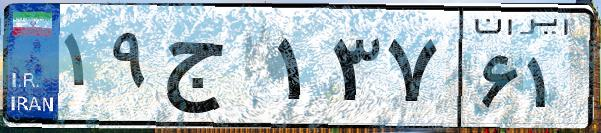1: (270, 28, 330, 110), (57, 26, 110, 100), (525, 38, 570, 115)
3: (330, 28, 385, 110)
6: (475, 38, 525, 113)
7: (385, 28, 445, 110)
9: (110, 28, 158, 98)
ج: (158, 20, 270, 120)
